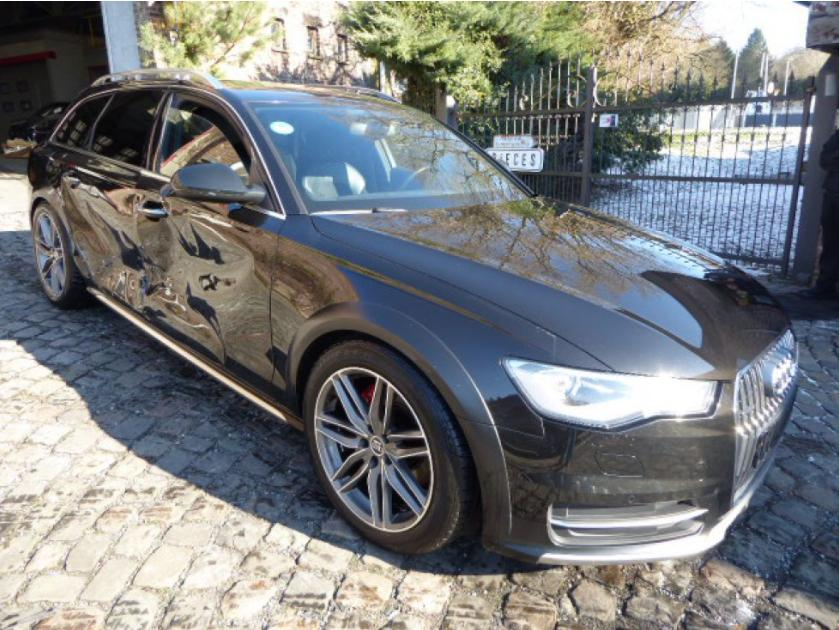Back-door: (44, 85, 171, 313)
Back-wheel: (32, 200, 95, 309)
Back-window: (93, 92, 164, 166), (56, 96, 111, 149)
Fender: (270, 214, 612, 436)
Front-bumper: (454, 381, 784, 566)
Front-door: (132, 85, 287, 399)
Front-wheel: (303, 332, 483, 555)
Front-window: (156, 93, 251, 188)
Grille: (731, 321, 800, 507)
Headlight: (501, 355, 723, 433)
Hood: (312, 196, 789, 381)
Mirror: (160, 156, 276, 211)
Quarter-panel: (27, 137, 93, 284)
Rocker-panel: (84, 280, 305, 433)
Roof: (84, 69, 406, 105)
Windshield: (243, 102, 532, 216)
